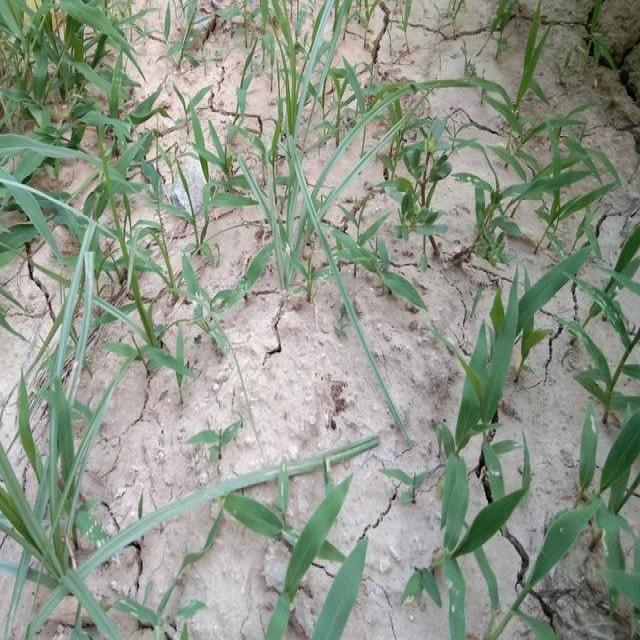weed: (470, 54, 640, 614), (251, 1, 448, 434), (12, 17, 225, 368), (0, 363, 135, 640), (256, 421, 386, 640)
